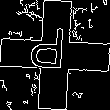P_S: (35, 29, 75, 81)
